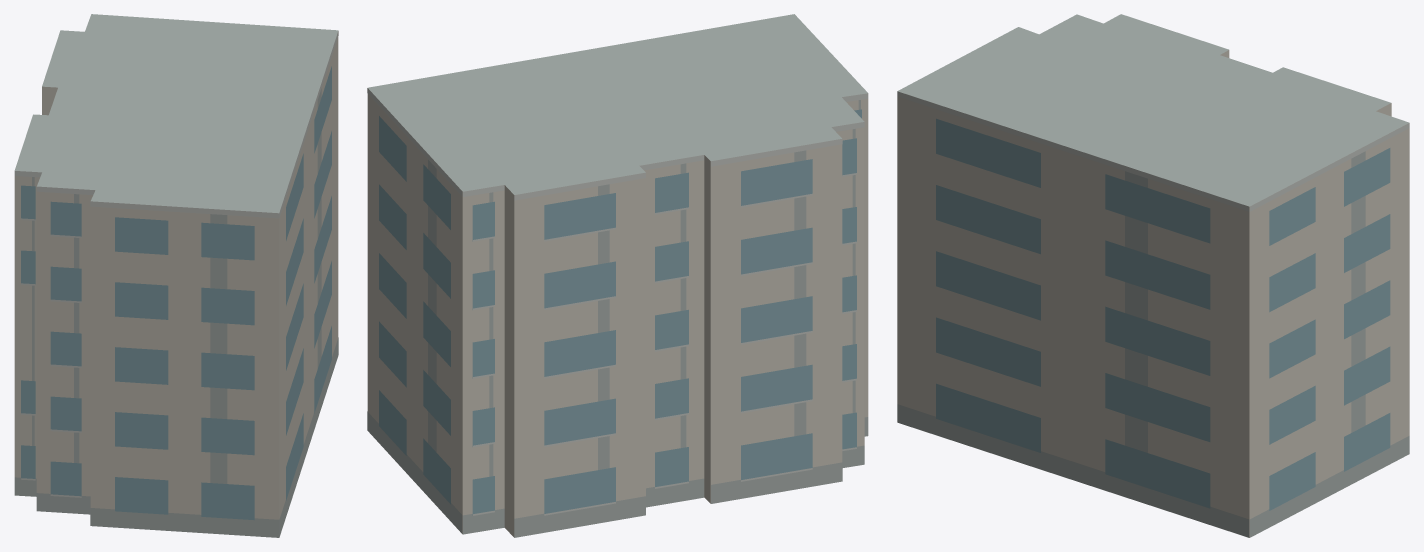
The model's file is survey-upis-32670694.glb.
3 renders of one model, left to right at view 1: azimuth 30°, elevation 25°; view 2: azimuth 150°, elevation 25°; view 3: azimuth 270°, elevation 25°, orthographic. The views are drawn at different scales.
Parts seen in each view (by area): view 1: survey-upis-32670694.tmp; view 2: survey-upis-32670694.tmp; view 3: survey-upis-32670694.tmp.
Boxes of the visible parts, x1,y1,x2,y2 form: survey-upis-32670694.tmp: (14, 14, 338, 537); survey-upis-32670694.tmp: (367, 14, 868, 537); survey-upis-32670694.tmp: (897, 14, 1409, 537).
Bounding box in the file's own units: 19.02 × 15.25 × 21.39.
